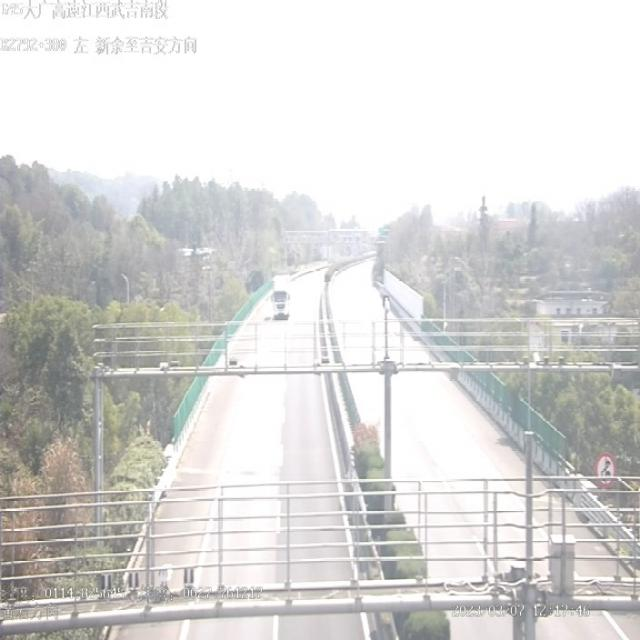point: (319, 231, 383, 282)
